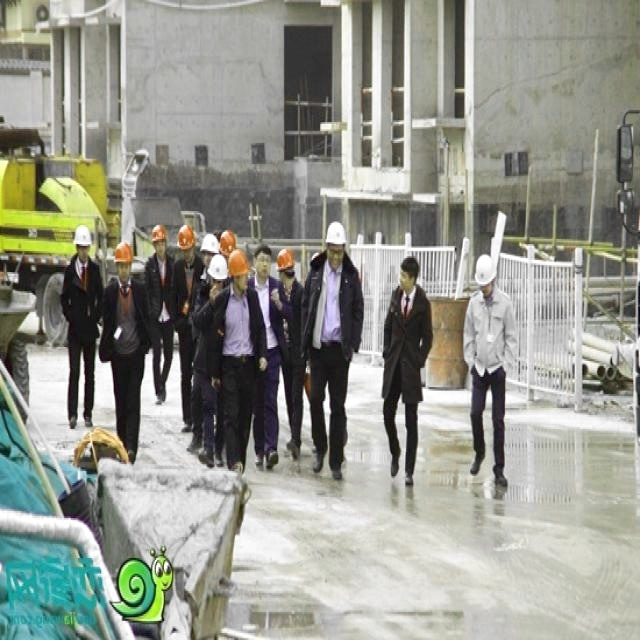Con_Casco: (323, 221, 348, 267), (474, 254, 496, 298)
Sin_Casco_Mascarrilla: (398, 256, 419, 296), (252, 244, 273, 279)
